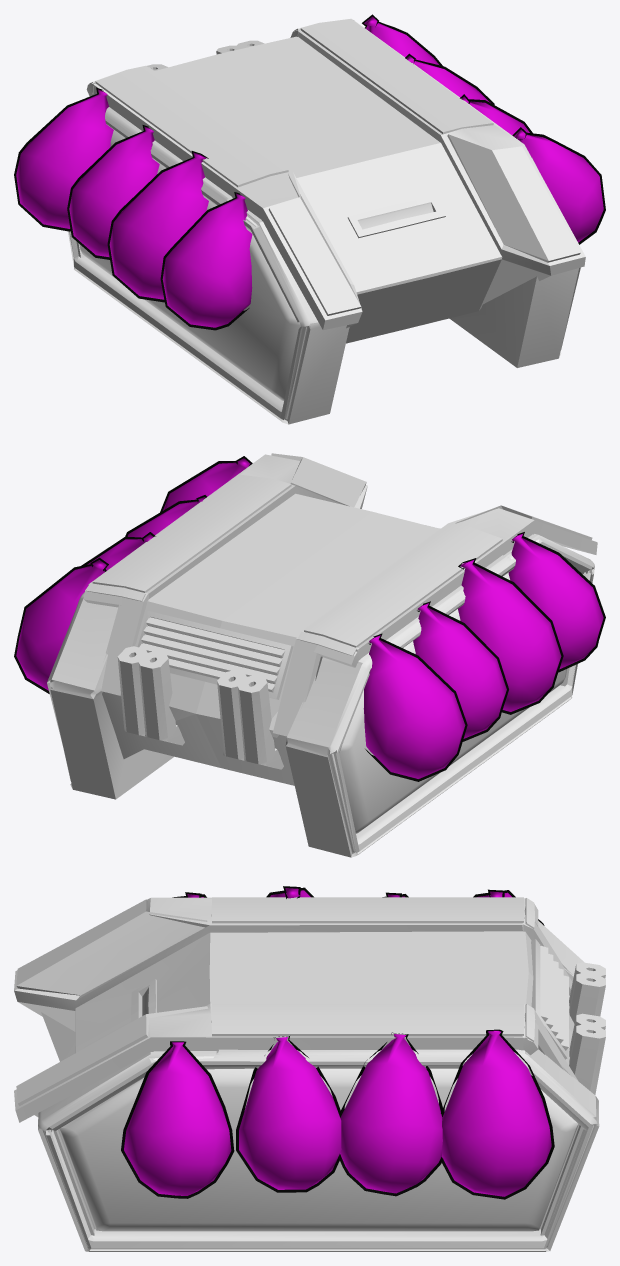
File: balloonchasis.fbx
3 renders of one model, top to bottom at view 1: azimuth 30°, elevation 25°; view 2: azimuth 150°, elevation 25°; view 3: azimuth 270°, elevation 25°, orthographic. The views are drawn at different scales.
Parts seen in each view (by area): view 1: Body, BalloonChasis; view 2: Body, BalloonChasis; view 3: Body, BalloonChasis.
Part boxes in pixels (bbox=[...]): Body: bbox=[68, 18, 585, 424]; BalloonChasis: bbox=[14, 14, 605, 330]; Body: bbox=[47, 453, 597, 857]; BalloonChasis: bbox=[14, 456, 605, 781]; Body: bbox=[14, 897, 605, 1251]; BalloonChasis: bbox=[121, 886, 554, 1199].
Bounding box in the file's own units: 130 × 122 × 54.1.
